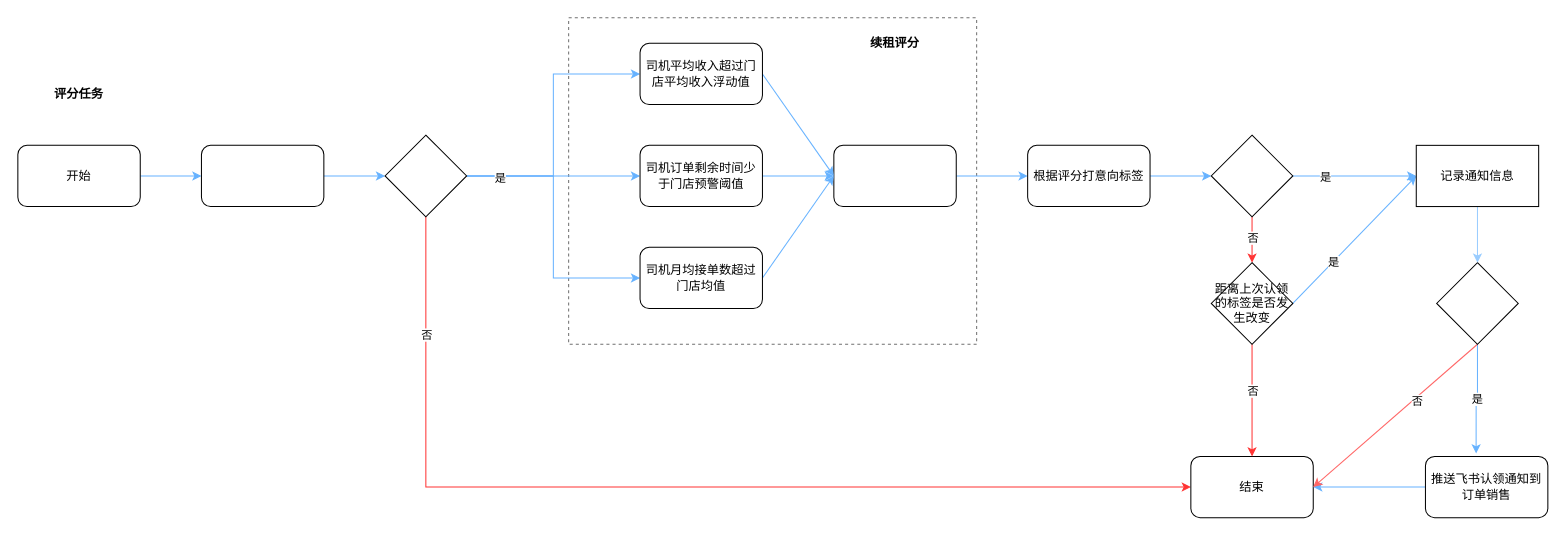
The diagram is 1566 pixels wide and 536 high, and some of its shapes have lost their labels. Here are the shapes that lost their labels. From the top down, the centre of each, then its label:
At (x=262, y=175): "计算司机月均收入".
At (x=425, y=175): "租车司机".
At (x=894, y=175): "累计得分".
At (x=1251, y=175): "合同期内没有被认领过".
At (x=1477, y=303): "所属门店允许通知".
